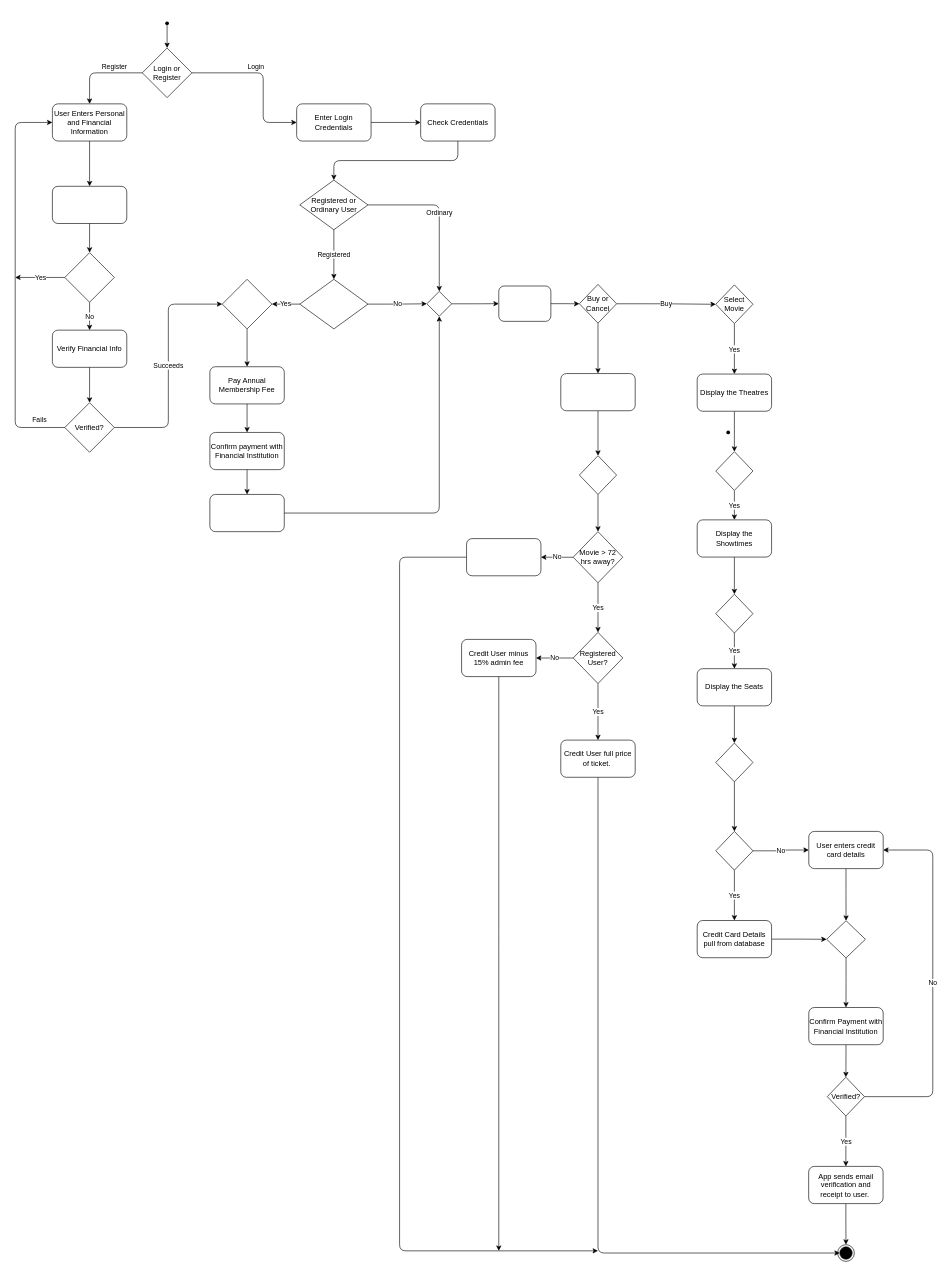
The diagram is 949 pixels wide and 1272 high, and some of its shapes have lost their labels. Each missing label, with the centre of its shape:
"Cancel Ticket without refund" belongs at point 503,557.
"Check Details Personal Info against database" belongs at point 89,205.
"Choose Movie" belongs at point 598,474.
"Display Tickets" belongs at point 597,392.
"Fees Outstanding?" belongs at point 333,304.
"Receive News and Discounts" belongs at point 246,513.
"Registered User" belongs at point 734,850.
"Select Seats" belongs at point 734,762.
"Select Showtime" belongs at point 734,613.
"Select Theatre" belongs at point 734,470.
"User Already Exists?" belongs at point 89,277.
"User Shown Main Page" belongs at point 524,303.
